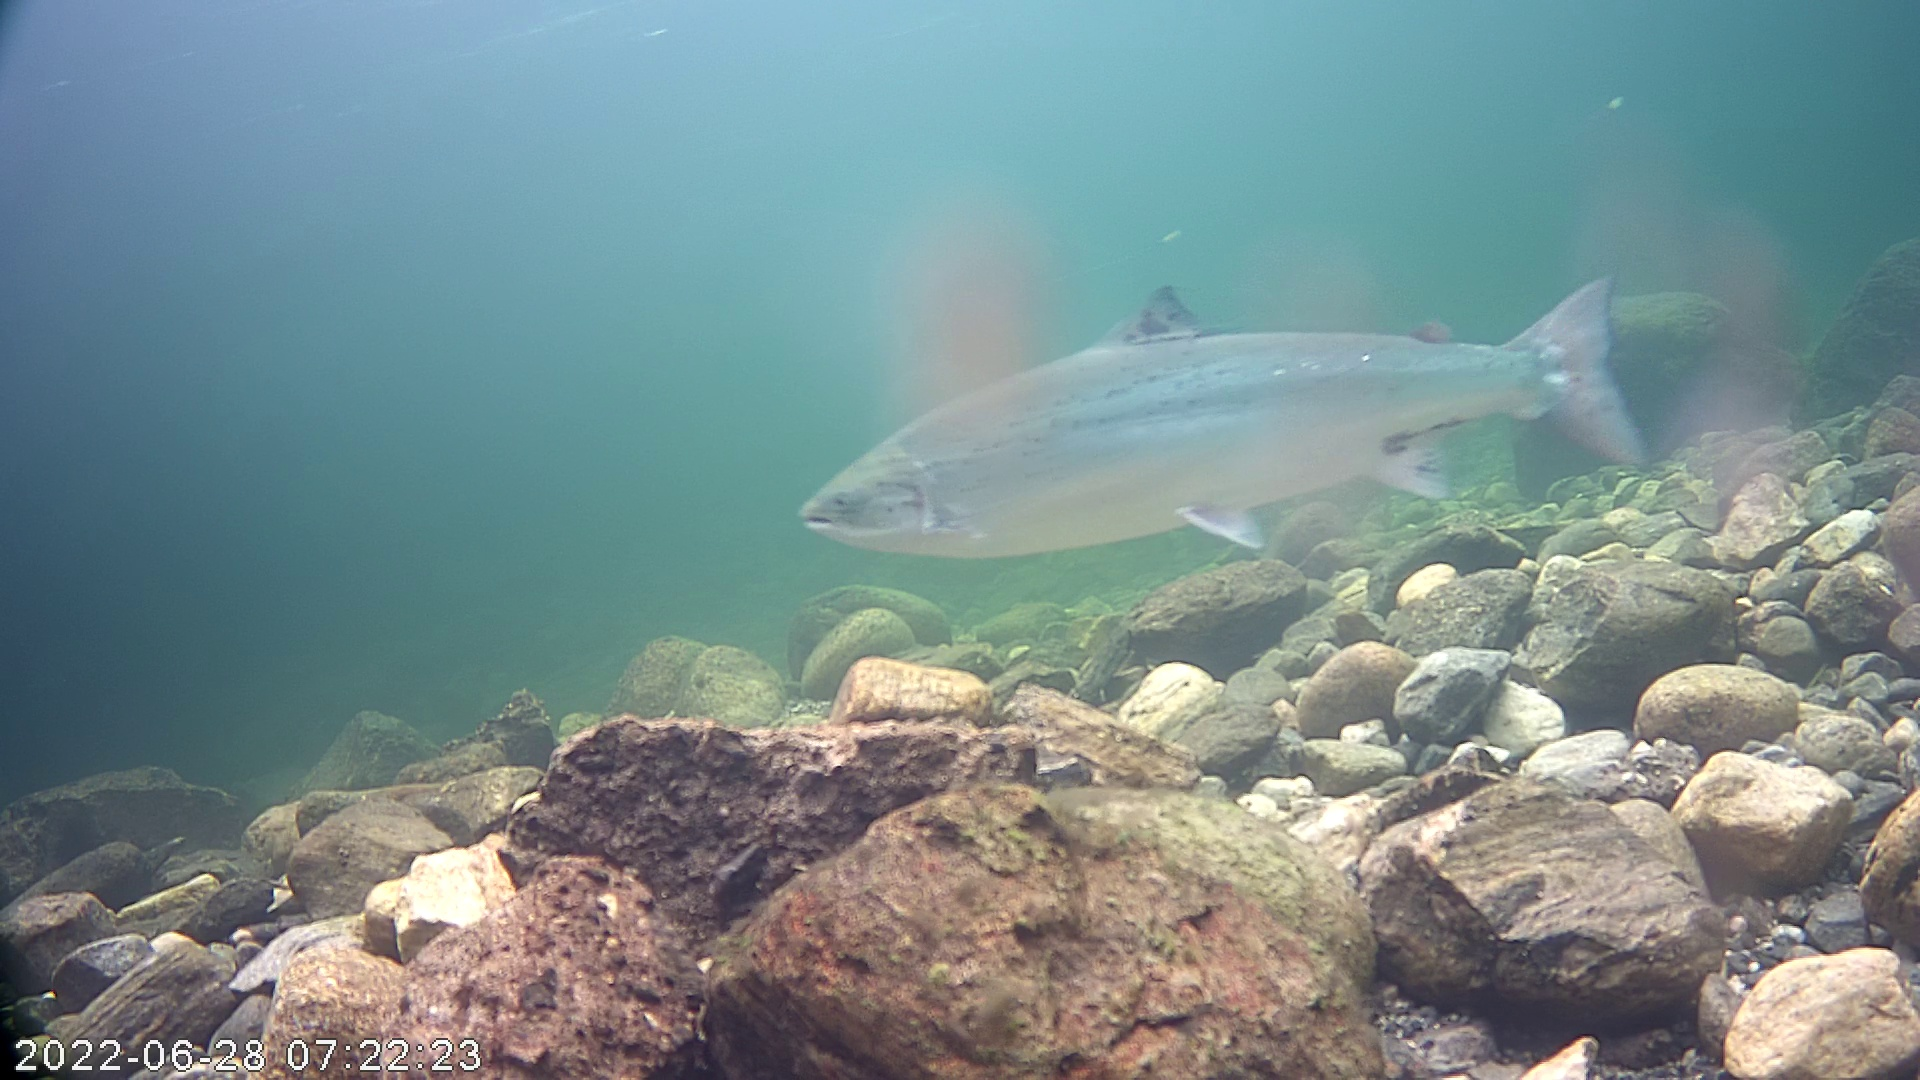salmon: (793, 200, 1671, 611)
